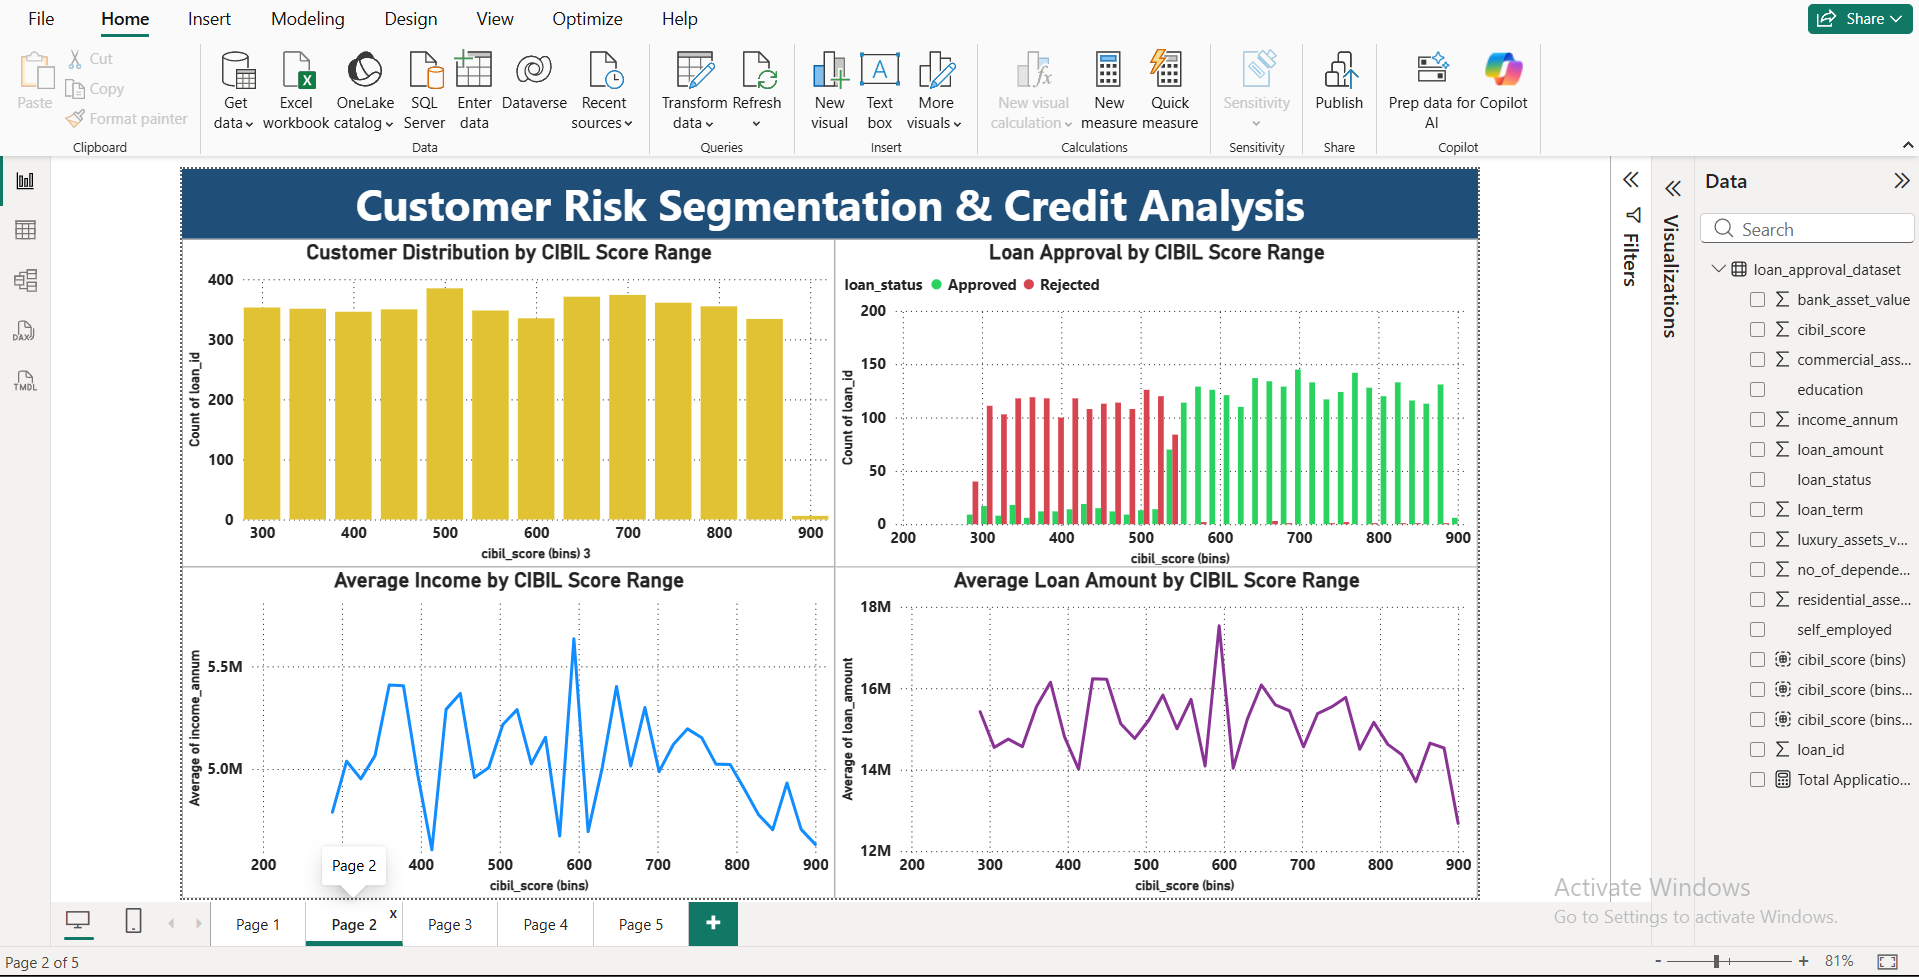

The page's visual inventory and layout, read from the dashboard file:
{"tool":"powerbi","page":{"name":"Page 2","canvas":[1280,720],"ordinal":1},"visuals":[{"type":"textbox","box":[0,0,1280.3,68.6],"z":0},{"type":"clusteredColumnChart","title":"Customer Distribution by CIBIL Score Range","fields":{"Category":["loan_approval_dataset.cibil_score (bins) 3"],"Y":["CountNonNull(loan_approval_dataset.loan_id)"]},"box":[0,68.6,644.9,323.8],"z":1000},{"type":"clusteredColumnChart","title":"Loan Approval by CIBIL Score Range","fields":{"Category":["loan_approval_dataset.cibil_score (bins)"],"Series":["loan_approval_dataset. loan_status"],"Y":["CountNonNull(loan_approval_dataset.loan_id)"]},"box":[644.9,68.6,635.3,328],"z":2000},{"type":"lineChart","title":"Average Income by CIBIL Score Range","fields":{"Category":["loan_approval_dataset.cibil_score (bins)"],"Y":["Avg(loan_approval_dataset. income_annum)"]},"box":[0,392.5,644.9,328],"z":3000},{"type":"lineChart","title":"Average Loan Amount by CIBIL Score Range","fields":{"Category":["loan_approval_dataset.cibil_score (bins)"],"Y":["Avg(loan_approval_dataset. loan_amount)"]},"box":[644.9,392.5,635.3,328],"z":4000}]}

Visuals, with their boxes on the page's 1280x720 design canvas (x1, y1, x2, y2). These are canvas units, not pixel positions in the 1919x977 screenshot, which may show the page scaled, cropped or inside an application window:
textbox: 0 0 1280 69
"Customer Distribution by CIBIL Score Range" clusteredColumnChart: 0 69 645 392
"Loan Approval by CIBIL Score Range" clusteredColumnChart: 645 69 1280 397
"Average Income by CIBIL Score Range" lineChart: 0 392 645 720
"Average Loan Amount by CIBIL Score Range" lineChart: 645 392 1280 720
